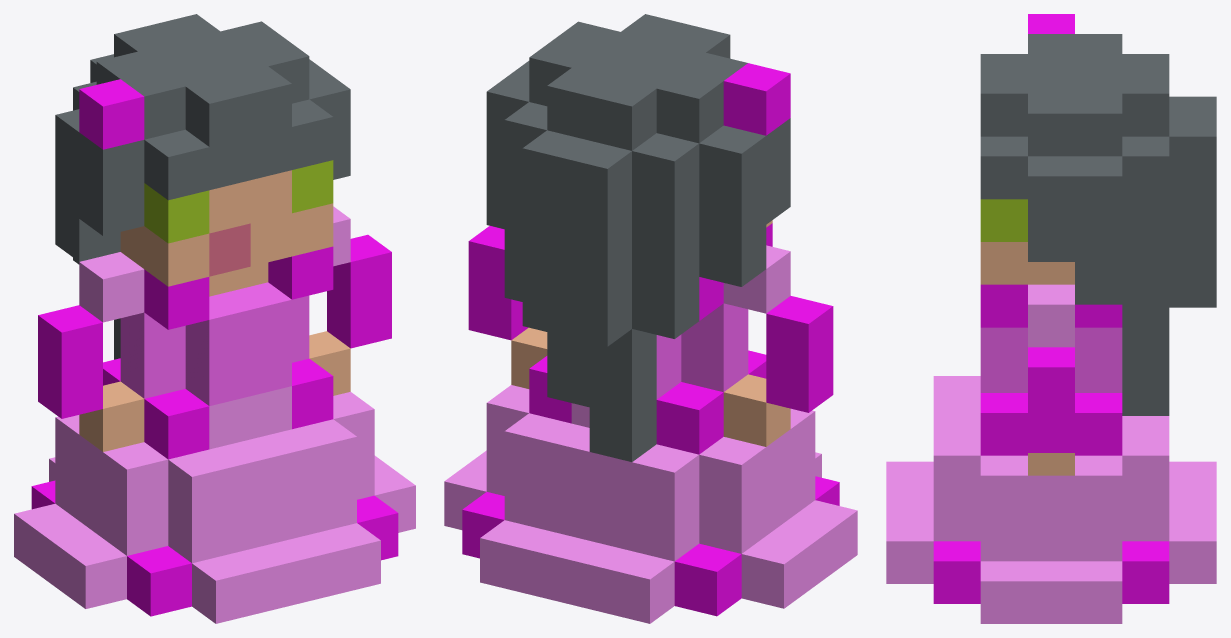
File: chancellor.obj
3 views of the same model, side by side, from view 1: azimuth 30°, elevation 25°; view 2: azimuth 150°, elevation 25°; view 3: azimuth 270°, elevation 25° (orthographic). The views are drawn at different scales.
Size of the model in its own units: 0.8 by 1.1 by 0.7.
Materials: 1 (1 with a texture image).
